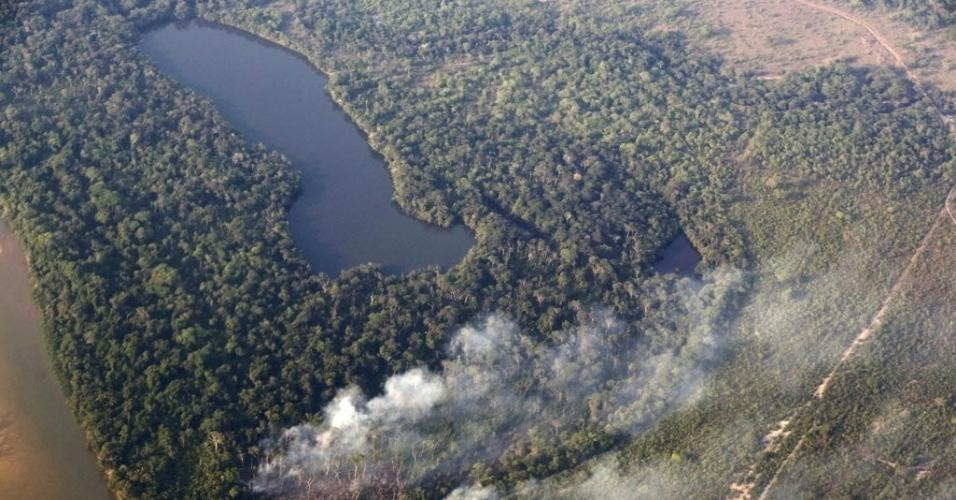smoke: (338, 386, 454, 420)
